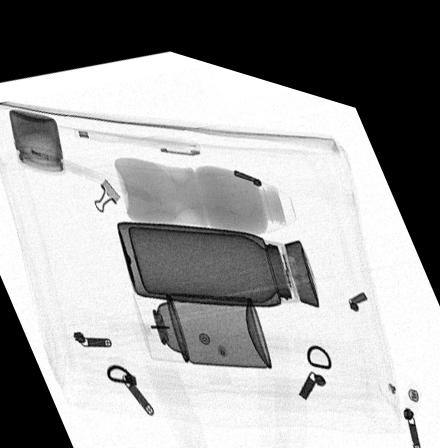Sprayer: (132, 281, 271, 352)
